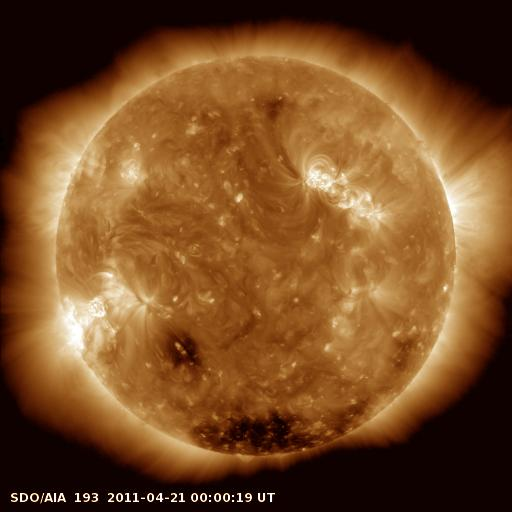coronal_hole: (182, 411, 366, 455), (155, 328, 208, 369)
